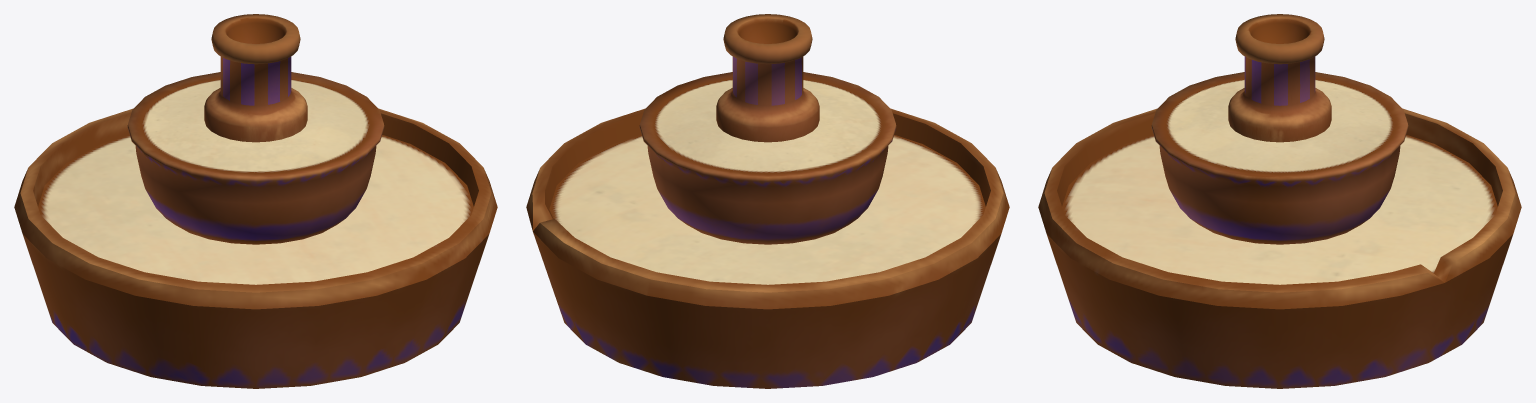
The model's file is millstone.fbx.
3 renders of one model, left to right at view 1: azimuth 30°, elevation 25°; view 2: azimuth 150°, elevation 25°; view 3: azimuth 270°, elevation 25°, orthographic.
Visible parts, largest first — view 1: part6_low, part7_low, part8_low; view 2: part6_low, part7_low, part8_low; view 3: part6_low, part7_low, part8_low.
Boxes of the visible parts, x1,y1,x2,y2 form: part6_low: [14, 108, 497, 388]; part7_low: [127, 72, 384, 244]; part8_low: [204, 14, 307, 142]; part6_low: [526, 108, 1009, 388]; part7_low: [639, 72, 896, 244]; part8_low: [716, 14, 819, 142]; part6_low: [1038, 108, 1521, 388]; part7_low: [1151, 72, 1408, 244]; part8_low: [1228, 14, 1331, 142].
Bounding box in the file's own units: 8848 × 8848 × 5437.
